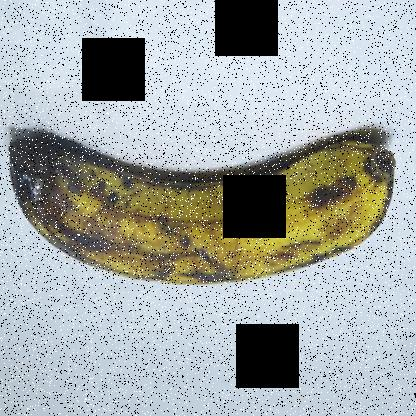overripe: (1, 132, 400, 298)
